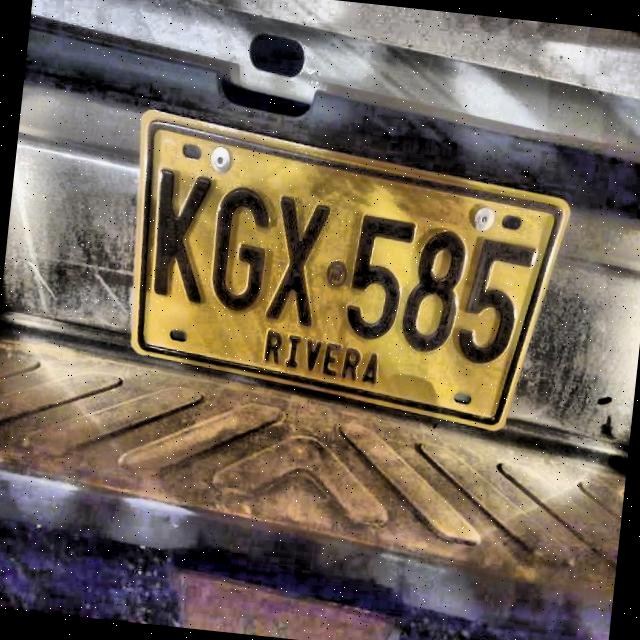plate: (136, 116, 564, 424)
